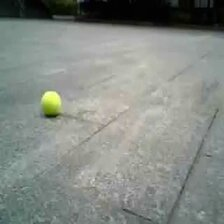tennis: (42, 92, 60, 112)
